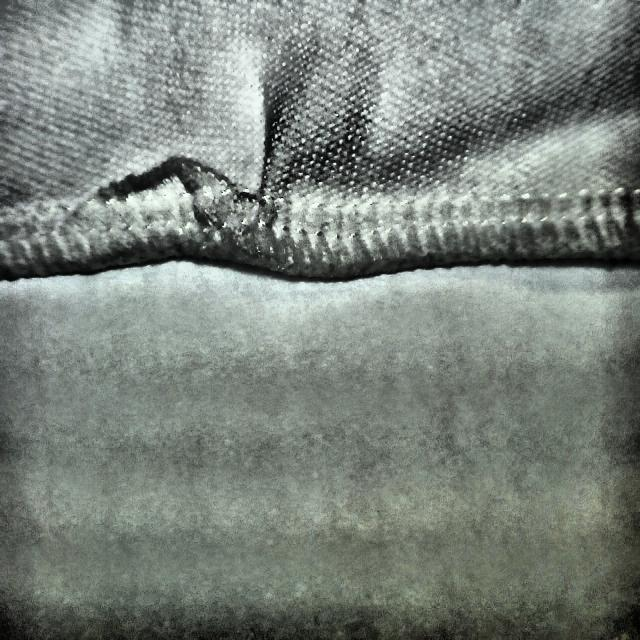seam: (135, 87, 305, 261)
